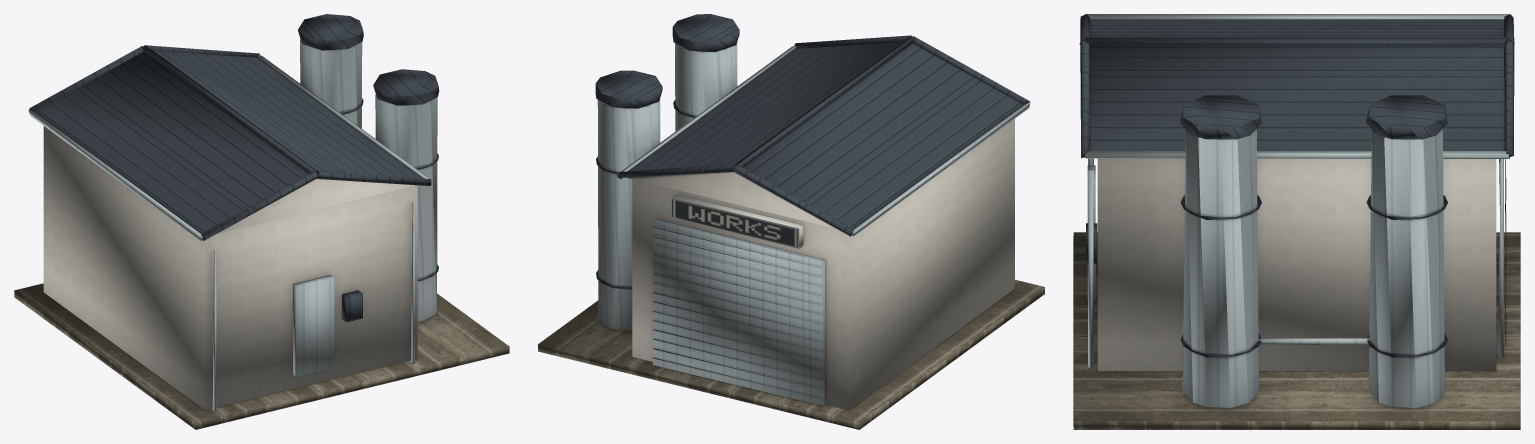
The model's file is factory_004.obj.
The picture shows the model from 3 angles, left to right: view 1: azimuth 30°, elevation 25°; view 2: azimuth 150°, elevation 25°; view 3: azimuth 270°, elevation 25°; orthographic projection. The views are drawn at different scales.
Visible parts, largest first — view 1: factory_004; view 2: factory_004; view 3: factory_004.
Part boxes in pixels (x1,y1,x2,y2): factory_004: [14, 14, 509, 429]; factory_004: [538, 14, 1044, 429]; factory_004: [1073, 14, 1520, 429].
Size of the model in its own units: 6.5 by 4.7 by 6.5.
Materials: 1 (1 with a texture image).
